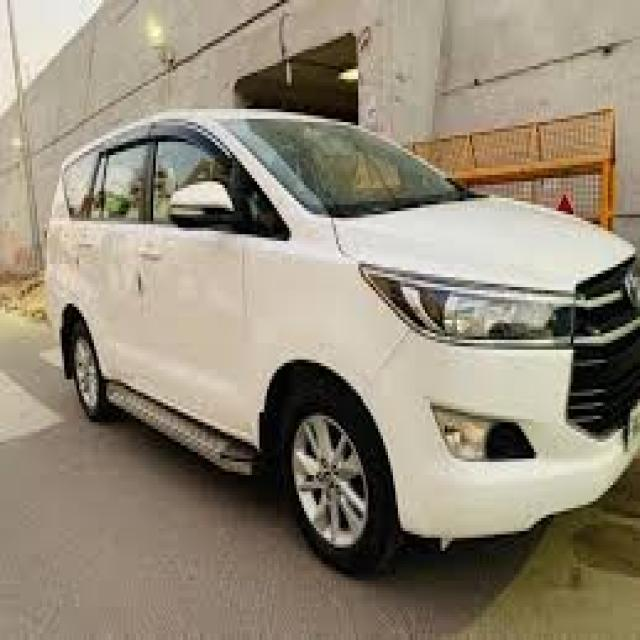light_vehicle: (44, 109, 640, 577)
